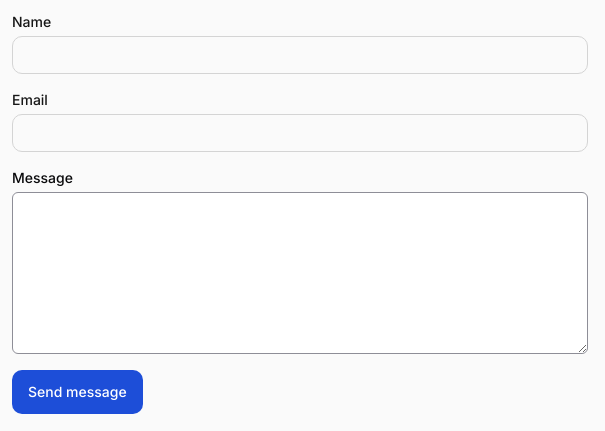
ContactForm › posts valid input to /contact and confirms
The width and height of the screenshot is (605, 431).
Type "Ana" into the field labelled "Name" at (300,55), box left=12, top=36, right=588, bottom=74
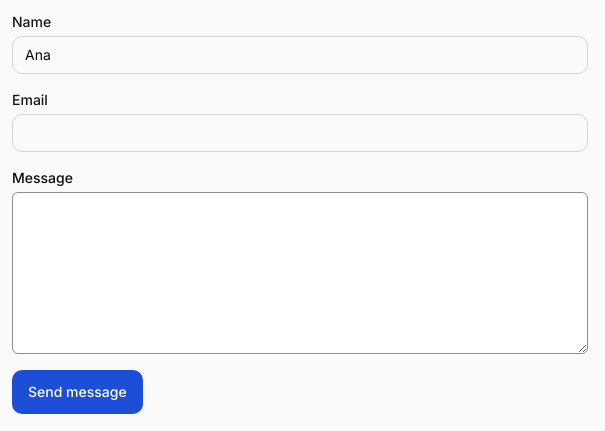
Type "ana@example.com" into the field labelled "Email" at (300,133), box left=12, top=114, right=588, bottom=152
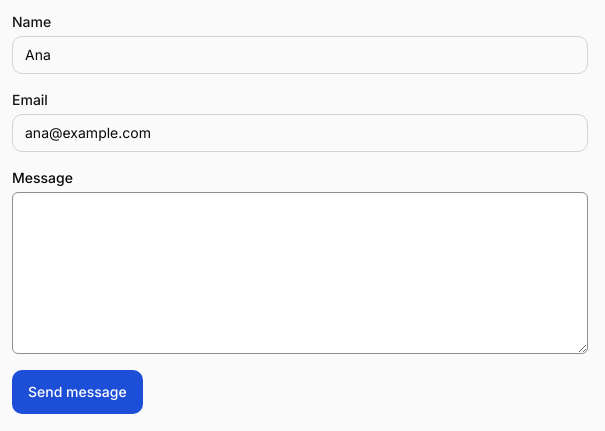
Type "Hello, I would like to talk." into the text box labelled "Message" at (300,273), box left=12, top=192, right=588, bottom=354
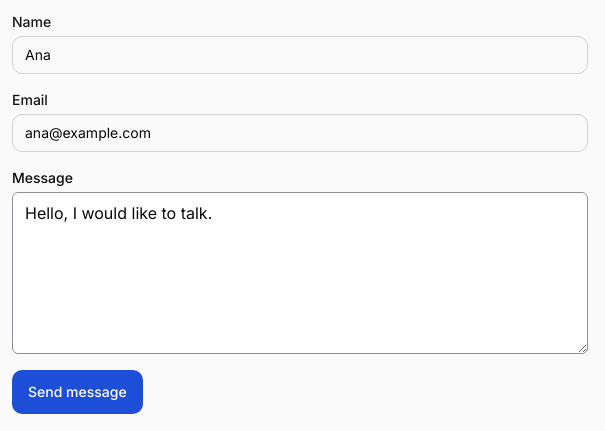
Click the button "Send message" at (77,392), box left=12, top=370, right=143, bottom=414
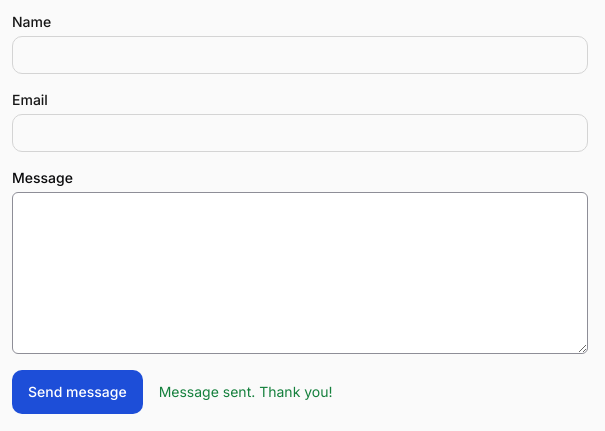
Now the message shows "Message sent", box left=159, top=383, right=333, bottom=400
